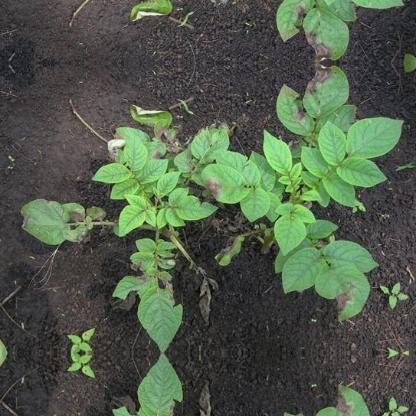Late-Blight: (25, 74, 406, 336)
